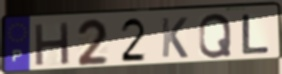2: (76, 17, 111, 68), (119, 17, 149, 64)
H: (33, 20, 72, 68)
K: (159, 16, 189, 59)
L: (241, 13, 272, 56)
Q: (197, 12, 233, 60)
